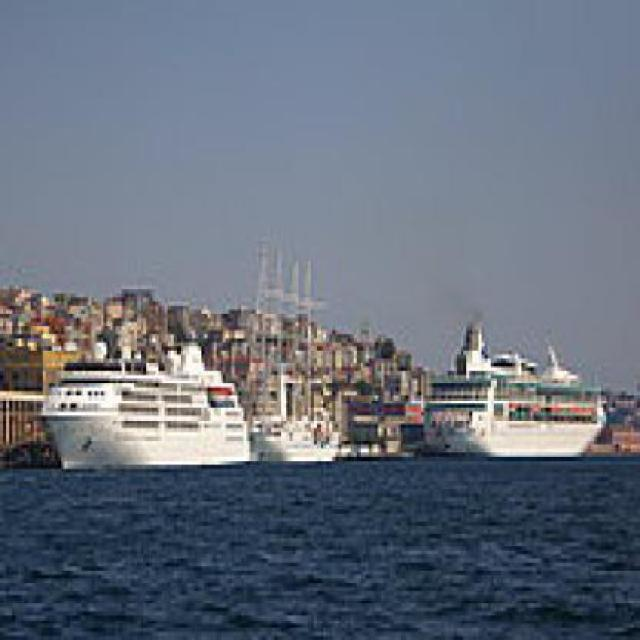cruise: (31, 311, 266, 494), (421, 311, 626, 486)
